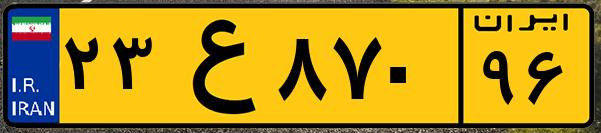0: (385, 28, 445, 110)
2: (57, 26, 110, 100)
3: (110, 28, 158, 98)
6: (525, 38, 570, 115)
7: (330, 28, 385, 110)
8: (270, 28, 330, 110)
9: (475, 38, 525, 113)
ع: (158, 12, 270, 120)
